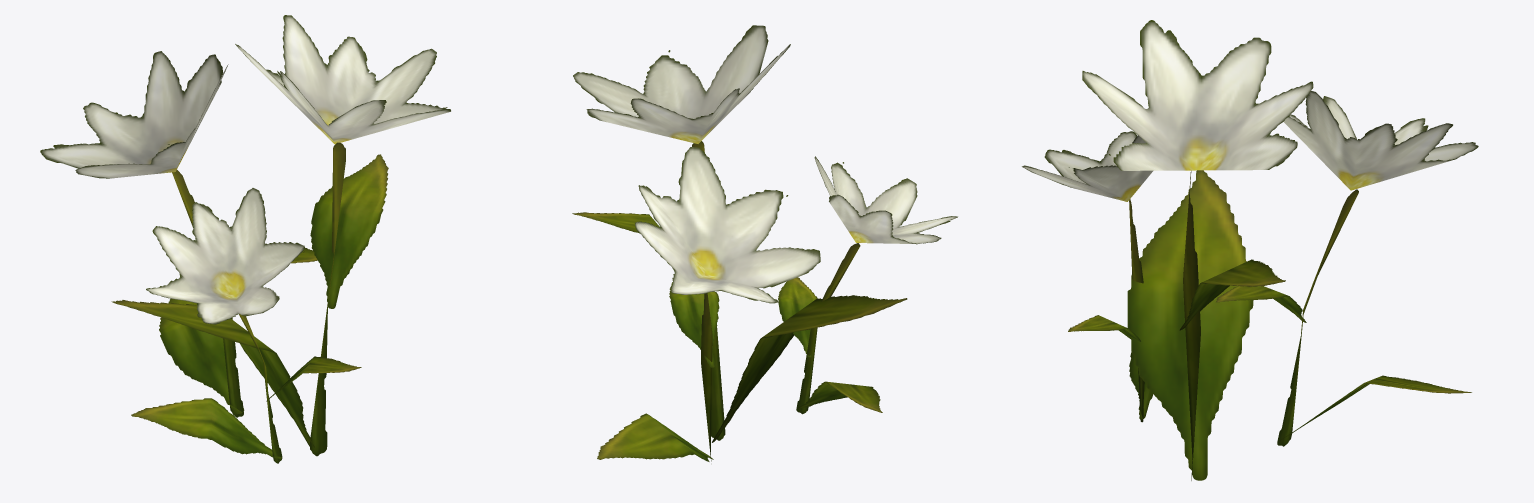
The model's file is flowers_white.fbx.
3 views of the same model, side by side, from view 1: azimuth 30°, elevation 25°; view 2: azimuth 150°, elevation 25°; view 3: azimuth 270°, elevation 25° (orthographic). The views are drawn at different scales.
Visible parts, largest first — view 1: flower_white_group; view 2: flower_white_group; view 3: flower_white_group.
Boxes of the visible parts, left/top/right/bottom form: flower_white_group: left=40, top=15, right=450, bottom=463; flower_white_group: left=572, top=25, right=957, bottom=461; flower_white_group: left=1022, top=20, right=1478, bottom=480.
Size of the model in its own units: 0.47 by 0.5196 by 0.5661.
